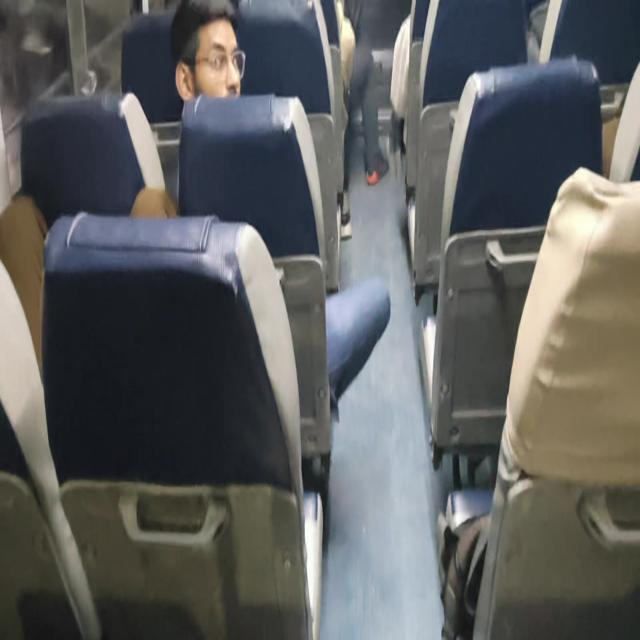person: (165, 20, 249, 94)
